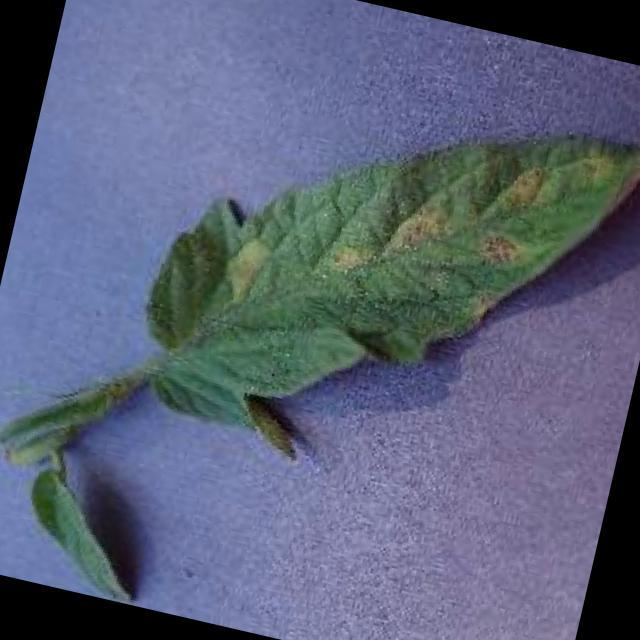Tomato mold leaf: (122, 0, 640, 530)
